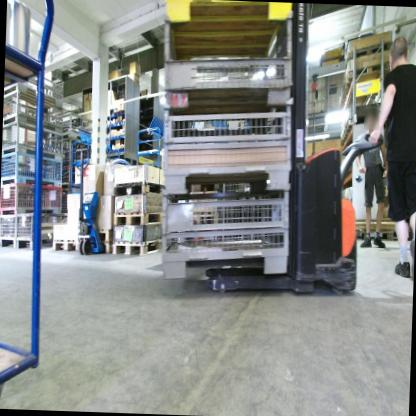pallet: (345, 49, 394, 91), (342, 31, 394, 70), (112, 240, 164, 264), (351, 222, 401, 246), (114, 179, 165, 199), (113, 209, 166, 227), (343, 115, 384, 132), (79, 224, 118, 240), (52, 237, 84, 252), (99, 241, 115, 252)
pallet_truck: (199, 1, 392, 306), (67, 139, 111, 256)
stillage: (159, 185, 295, 289), (161, 102, 293, 205), (161, 21, 298, 105), (163, 0, 297, 26), (4, 72, 66, 124), (2, 116, 67, 160), (0, 178, 64, 217), (50, 137, 94, 188), (1, 153, 64, 187), (16, 208, 62, 251), (51, 106, 102, 143), (54, 183, 90, 217), (0, 211, 18, 250)
